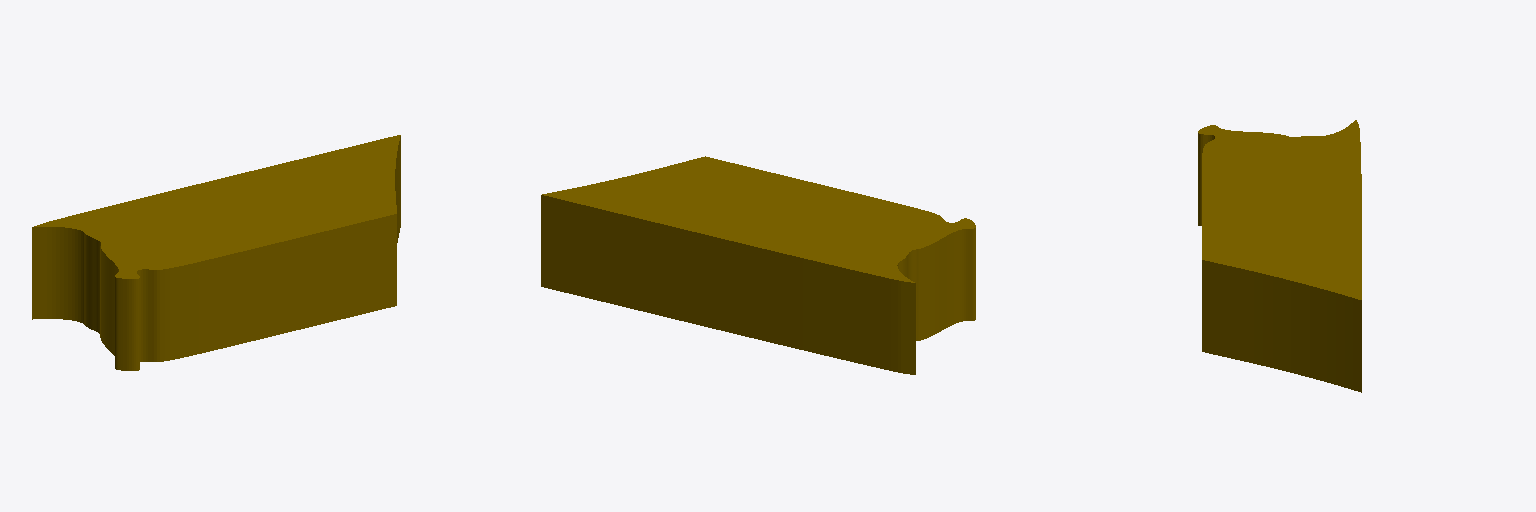
The picture shows the model from 3 angles: view 1: azimuth 30°, elevation 25°; view 2: azimuth 150°, elevation 25°; view 3: azimuth 270°, elevation 25°; orthographic projection.
Parts seen in each view (by area): view 1: Curve.011_path4194; view 2: Curve.011_path4194; view 3: Curve.011_path4194.
Boxes of the visible parts, x1,y1,x2,y2 form: Curve.011_path4194: [32, 135, 400, 370]; Curve.011_path4194: [541, 156, 975, 374]; Curve.011_path4194: [1198, 120, 1361, 392].
Bounding box in the file's own units: 0.4225 × 0.1 × 0.1617.